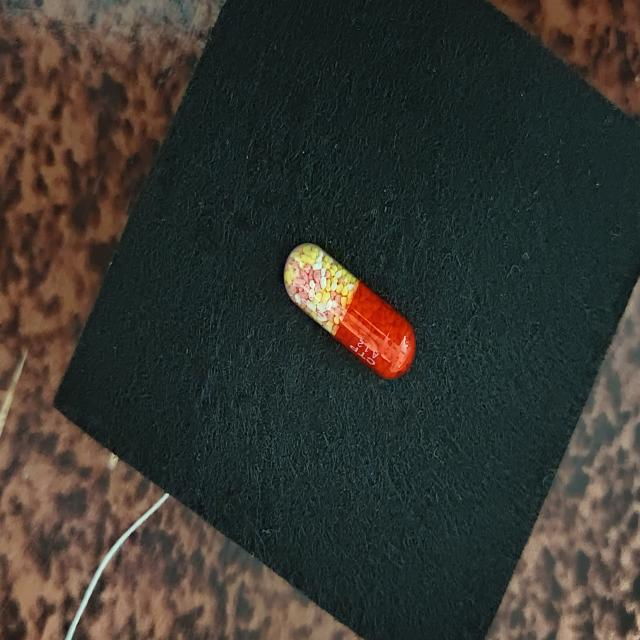Intact Capsule: (283, 243, 416, 379)
